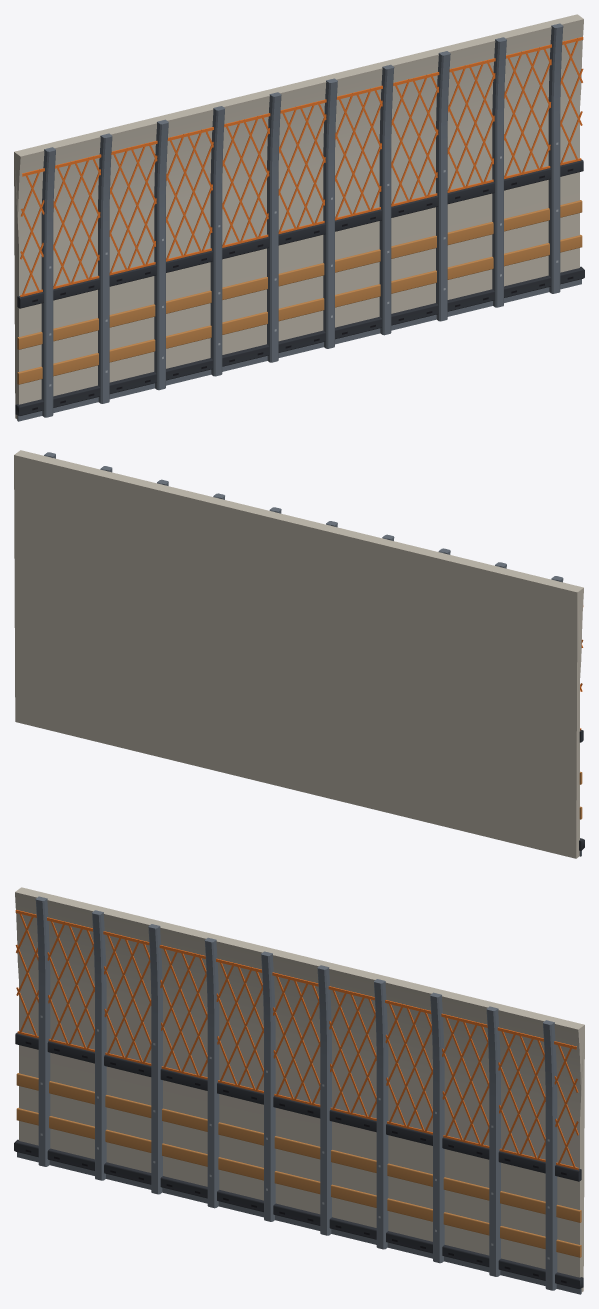
Rendered from BodegaPared.fbx.
The picture shows the model from 3 angles, top to bottom: view 1: azimuth 30°, elevation 25°; view 2: azimuth 150°, elevation 25°; view 3: azimuth 330°, elevation 25°; orthographic projection.
Parts seen in each view (by area): view 1: BodegaPared; view 2: BodegaPared; view 3: BodegaPared.
Part boxes in pixels (x1,y1,x2,y2): BodegaPared: [14, 14, 584, 421]; BodegaPared: [14, 450, 584, 858]; BodegaPared: [14, 887, 584, 1294].
Bounding box in the file's own units: 22.1 × 10 × 0.7.
1 material, 1 textured.
